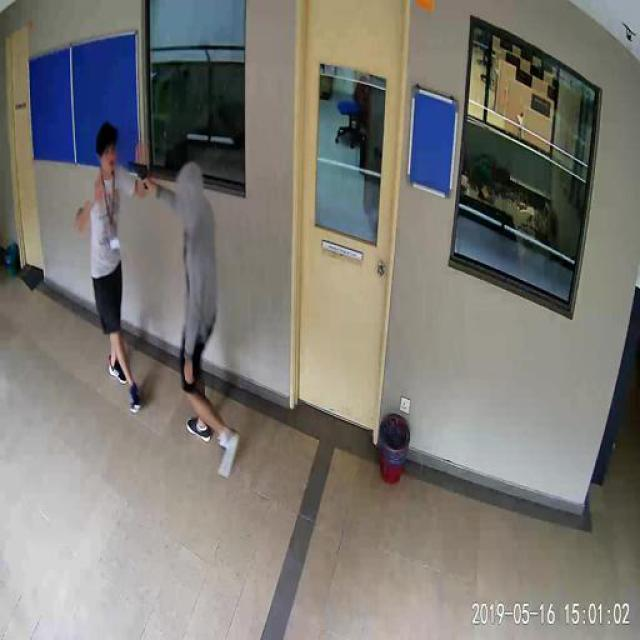Gun: (126, 158, 149, 186)
